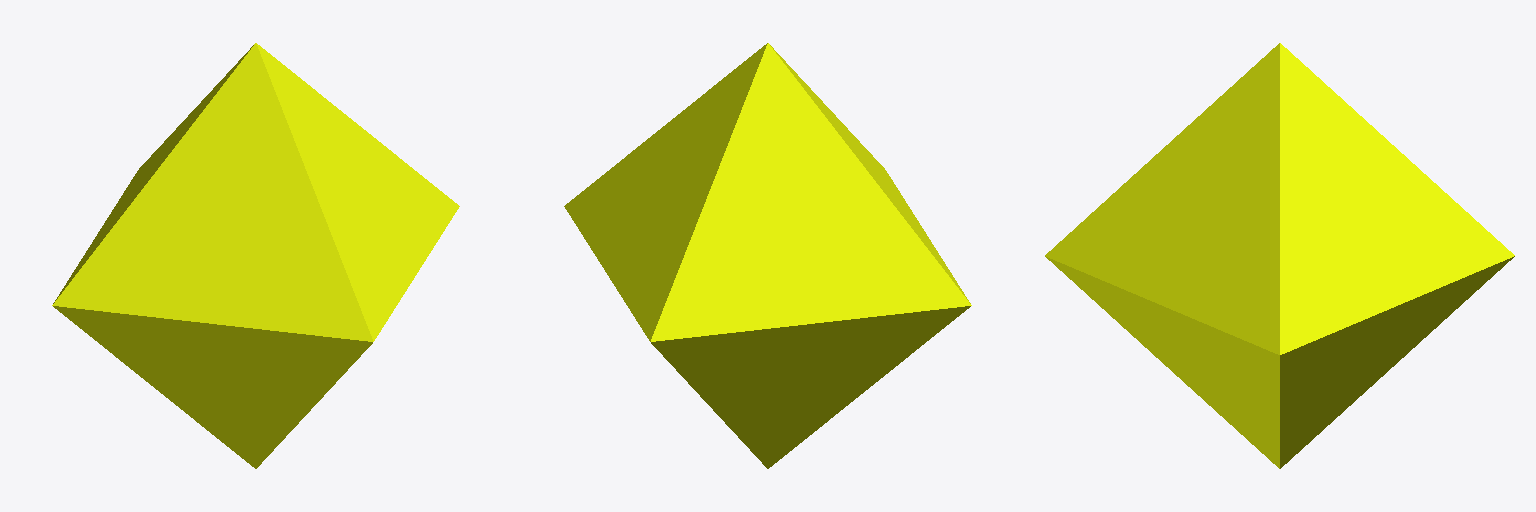
3 views of the same model, side by side, from view 1: azimuth 30°, elevation 25°; view 2: azimuth 150°, elevation 25°; view 3: azimuth 270°, elevation 25° (orthographic).
Visible parts, largest first — view 1: 立方体.002; view 2: 立方体.002; view 3: 立方体.002.
Boxes of the visible parts, box(x1,y1,x2,y2) form: 立方体.002: box(52, 43, 459, 468); 立方体.002: box(564, 43, 971, 468); 立方体.002: box(1045, 43, 1514, 468).
Bounding box in the file's own units: 2 × 2 × 2.
1 materials, 1 textured.